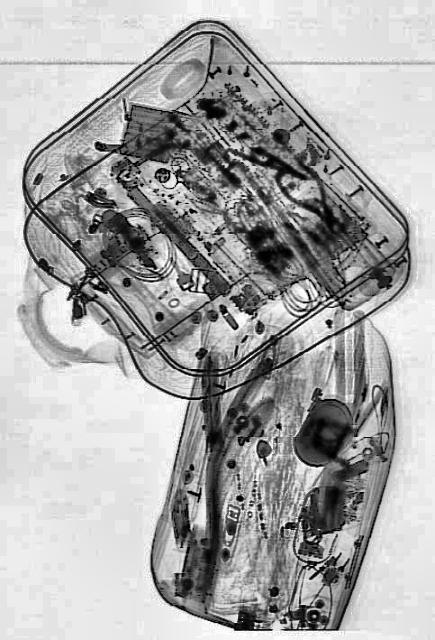Pliers: (274, 147, 350, 253)
